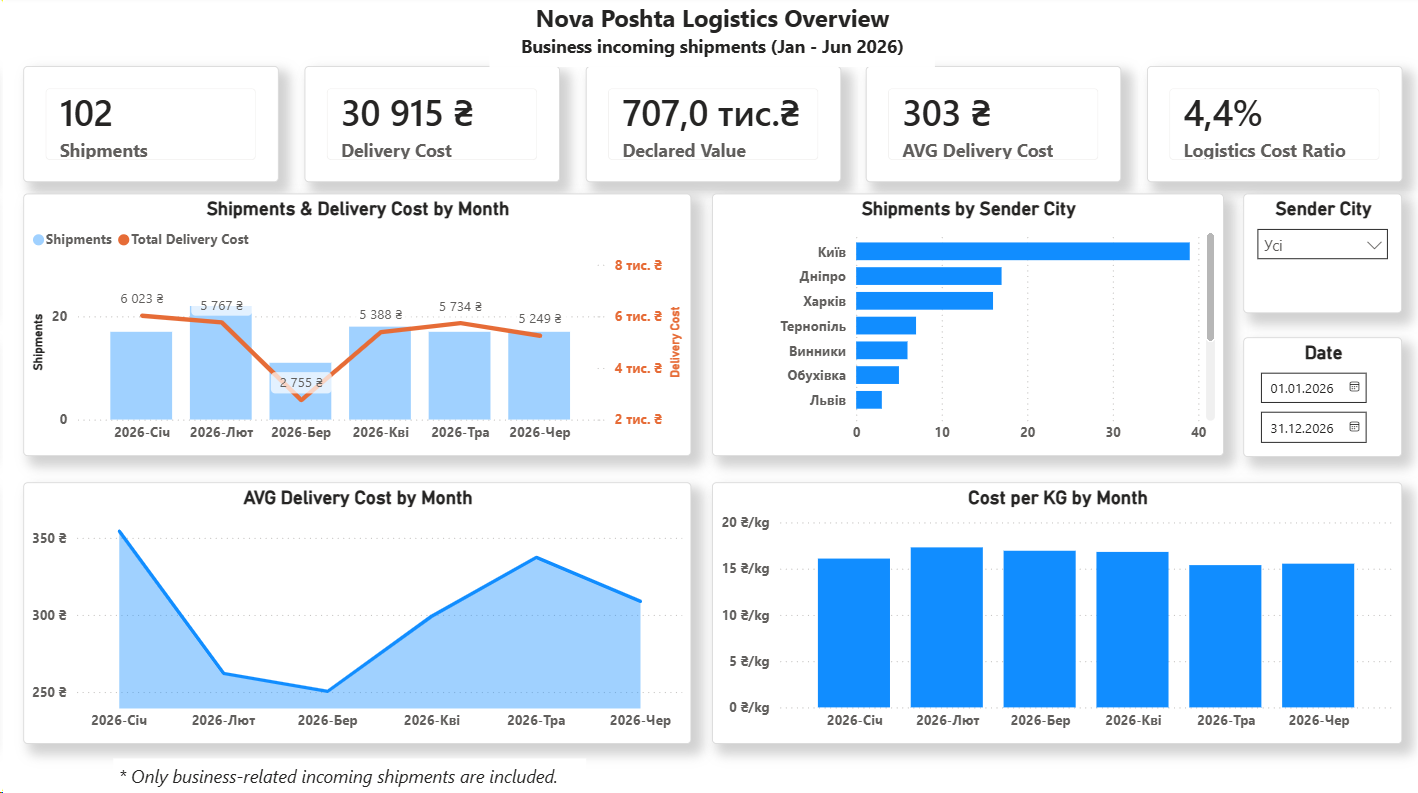

What the dashboard file says about the page in this screenshot:
{"tool":"powerbi","page":{"name":"Logistic Overview","canvas":[1280,720],"ordinal":0},"visuals":[{"type":"cardVisual","fields":{"Data":["_Measures.Shipments"]},"box":[18.9,63.3,230.4,105],"z":0},{"type":"cardVisual","fields":{"Data":["_Measures.Total_Delivery_Cost"]},"box":[272.6,63.3,230,105],"z":1000},{"type":"cardVisual","fields":{"Data":["_Measures.Total_Declared_Value"]},"box":[525.8,63.3,230,105],"z":2000},{"type":"cardVisual","fields":{"Data":["_Measures.AVG_Delivery_Cost"]},"box":[779.1,63.3,230,105],"z":3000},{"type":"cardVisual","fields":{"Data":["_Measures.Logistics_Cost %"]},"box":[1032.3,63.3,230.4,105],"z":4000},{"type":"lineClusteredColumnComboChart","title":"Shipments & Delivery Cost by Month","fields":{"Category":["Dim_Date.YearMonthName"],"Y":["_Measures.Shipments"],"Y2":["_Measures.Total_Delivery_Cost"]},"box":[18.9,178.6,602.2,236.8],"z":5000},{"type":"clusteredBarChart","title":"Shipments  by Sender City","fields":{"Category":["Dim_business_sender.sender_city"],"Y":["_Measures.Shipments"]},"box":[640.1,178.6,461.5,236.8],"z":6000},{"type":"slicer","title":"Date","fields":{"Values":["Dim_Date.Date"]},"box":[1119.2,307.2,143.5,108.3],"z":7000},{"type":"slicer","title":"Sender City","fields":{"Values":["Dim_business_sender.sender_city"]},"box":[1119.2,178.6,143.5,108.3],"z":8000},{"type":"areaChart","title":"AVG Delivery Cost by Month","fields":{"Category":["Dim_Date.YearMonthName"],"Y":["_Measures.AVG_Delivery_Cost"]},"box":[18.9,438.5,602.2,236],"z":9000},{"type":"clusteredColumnChart","title":"Cost per KG  by Month","fields":{"Category":["Dim_Date.YearMonthName"],"Y":["_Measures.Cost_per_kg"]},"box":[640.1,438.5,622.5,236],"z":10000},{"type":"textbox","box":[439,0,401.9,63.6],"z":11000},{"type":"textbox","box":[100.1,687.5,426.3,32.5],"z":12000}]}

Visuals, with their boxes in screenshot pixels (x1, y1, x2, y2), scaled from the page's 1280x720 canvas onto the 1418x793 screenshot:
cardVisual - _Measures.Shipments: 21,70,276,185
cardVisual - _Measures.Total_Delivery_Cost: 302,70,557,185
cardVisual - _Measures.Total_Declared_Value: 582,70,837,185
cardVisual - _Measures.AVG_Delivery_Cost: 863,70,1118,185
cardVisual - _Measures.Logistics_Cost %: 1144,70,1399,185
"Shipments & Delivery Cost by Month" lineClusteredColumnComboChart: 21,197,688,458
"Shipments  by Sender City" clusteredBarChart: 709,197,1220,458
"Date" slicer: 1240,338,1399,458
"Sender City" slicer: 1240,197,1399,316
"AVG Delivery Cost by Month" areaChart: 21,483,688,743
"Cost per KG  by Month" clusteredColumnChart: 709,483,1399,743
textbox: 486,0,932,70
textbox: 111,757,583,792
